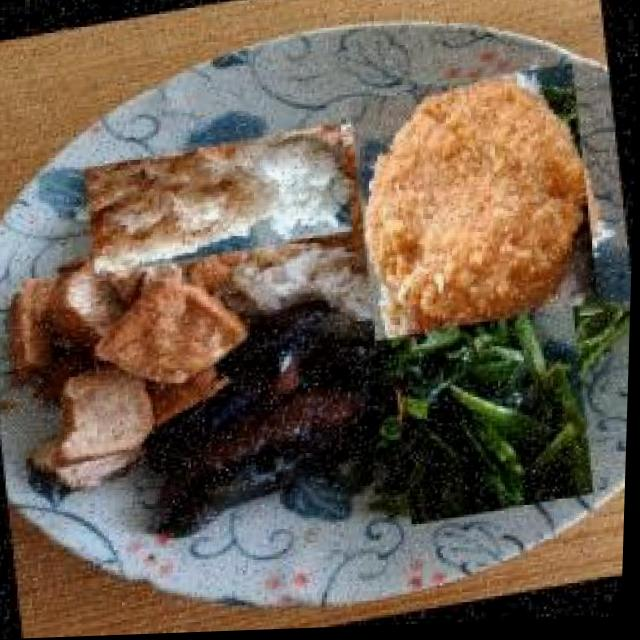fried_chicken: (342, 70, 611, 343)
rice: (83, 124, 360, 277)
water_spinach: (378, 289, 611, 524)
